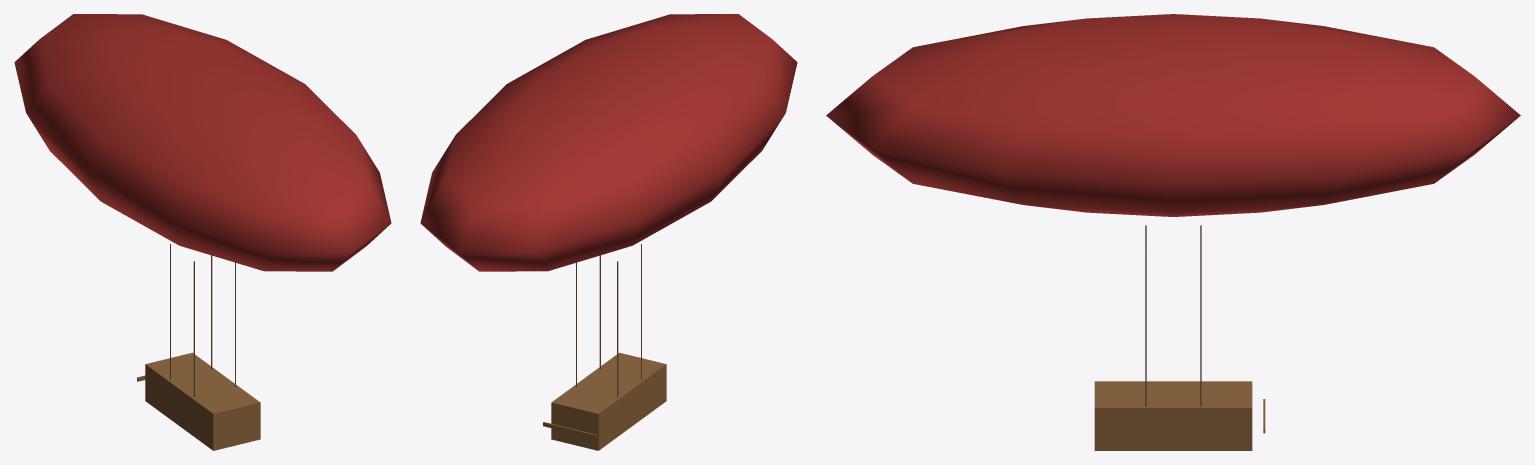
Rendered from veh_air_balloon_a05.glb.
3 views of the same model, side by side, from view 1: azimuth 30°, elevation 25°; view 2: azimuth 150°, elevation 25°; view 3: azimuth 270°, elevation 25° (orthographic). The views are drawn at different scales.
Parts seen in each view (by area): view 1: body; view 2: body; view 3: body.
Part boxes in pixels (x1,y1,x2,y2): body: (14, 14, 391, 450); body: (420, 14, 797, 450); body: (826, 14, 1520, 450).
Size of what is drawn, in the model's own units: 8 by 11.2 by 17.6.
